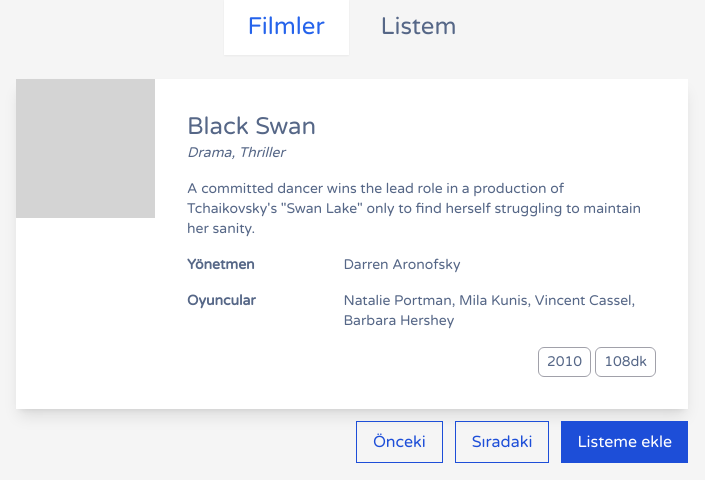
it: Önceki butonu bir önceki filmi açıyor
The width and height of the screenshot is (705, 480).
Click the button "Önceki" at (399, 442), box [356, 421, 443, 463]
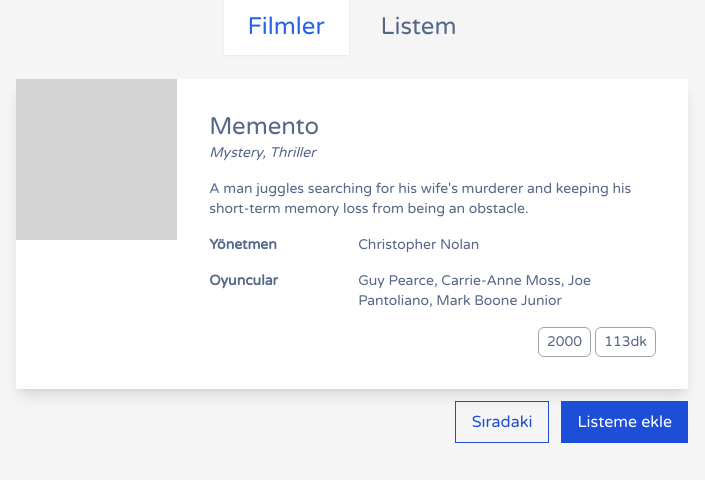
expect the heading "Memento" is shown: met, box [209, 112, 319, 141]
